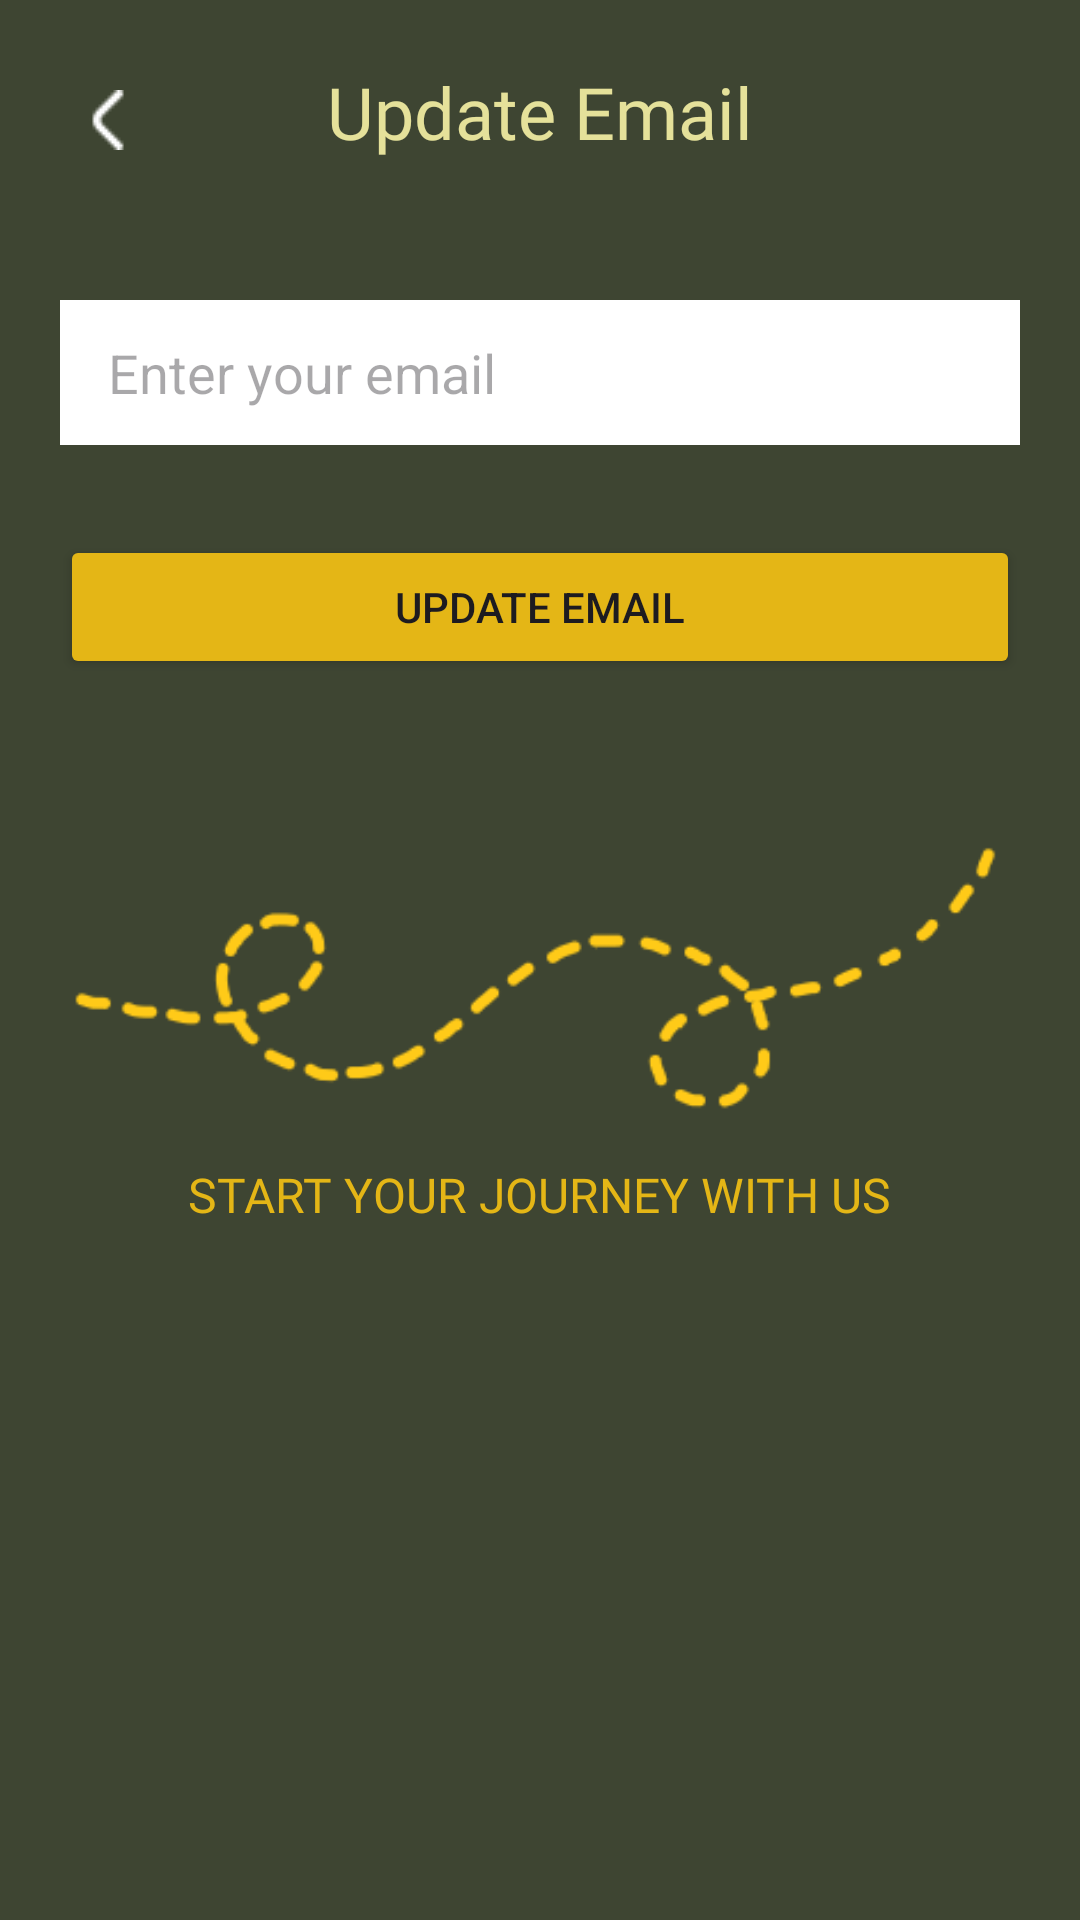

Icons on this 1080px x 1920px Android screen, each with its box as [x1=x1, y1=y1, x2=x2, y2=y2]:
angle left: [x1=92, y1=90, x2=124, y2=150]
